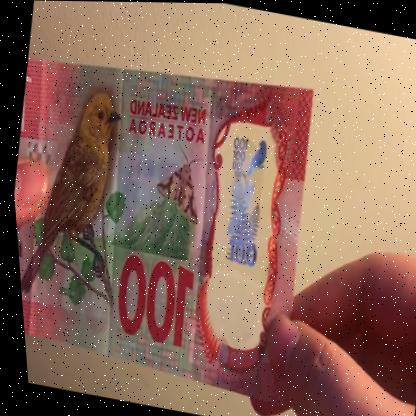100B: (194, 123, 283, 323)
